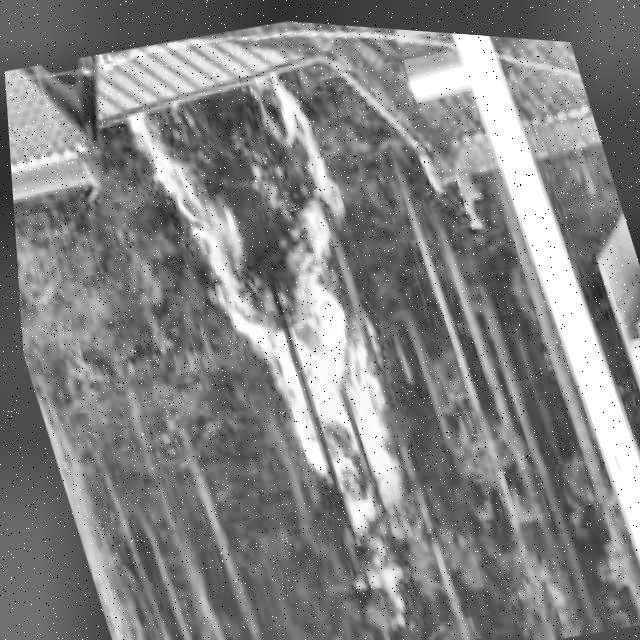Fire: (130, 65, 428, 548)
